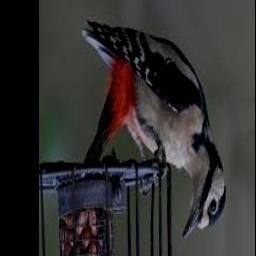Woodpecker: (82, 20, 226, 239)
